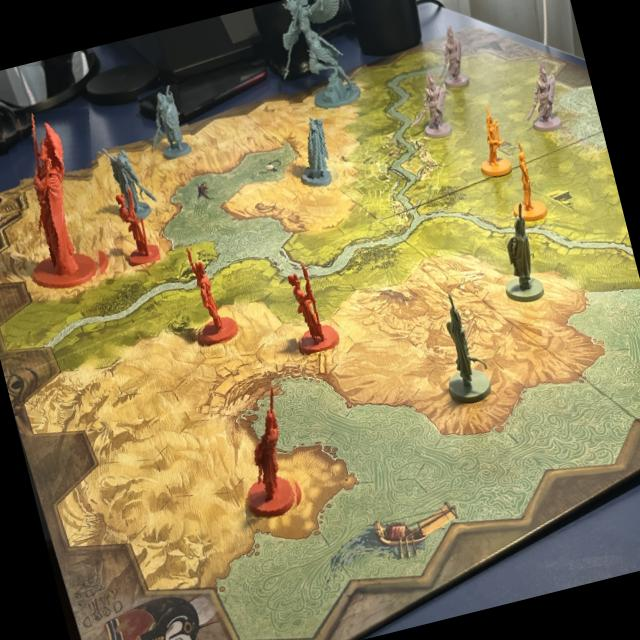amon: (0, 99, 123, 299)
amon_follower: (220, 378, 312, 524), (172, 239, 240, 349), (277, 260, 340, 357), (109, 185, 161, 267)
isis: (258, 0, 376, 124)
isis_follower: (269, 96, 349, 196), (94, 138, 167, 226), (136, 82, 194, 164)
